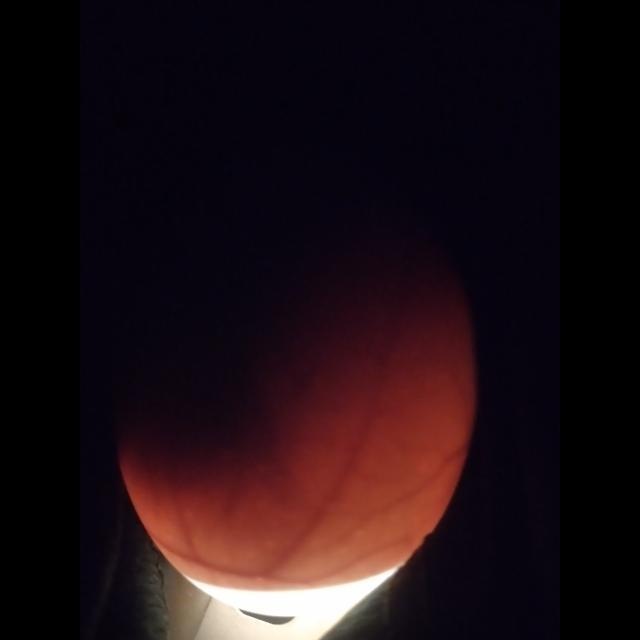Fertile: (110, 165, 477, 611)
